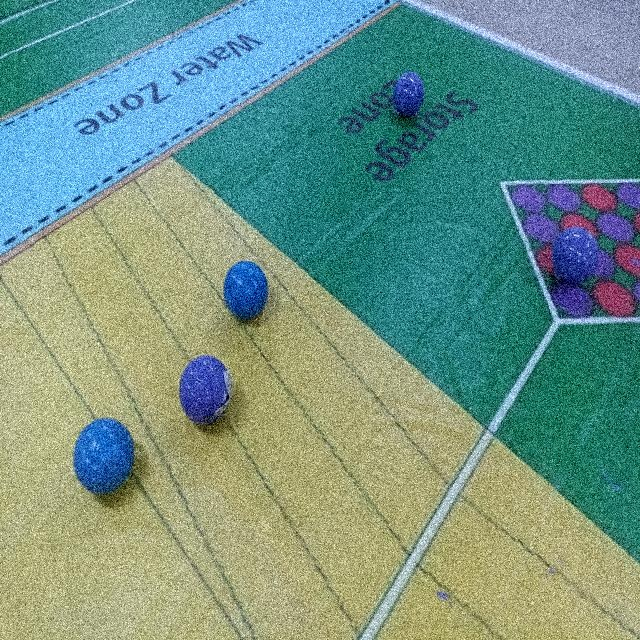blue_ball: (70, 414, 139, 506), (224, 257, 266, 323)
purple_ball: (171, 349, 239, 432), (545, 218, 605, 288), (392, 68, 429, 122)
